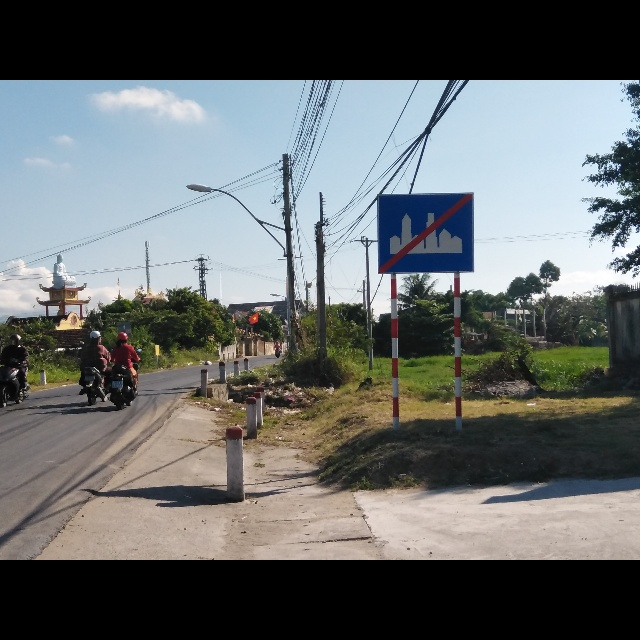Hết khu đông dân cư: (376, 191, 475, 273)
